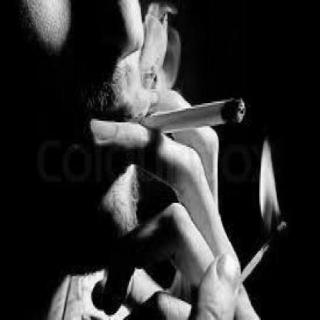Fire: (250, 127, 286, 247)
